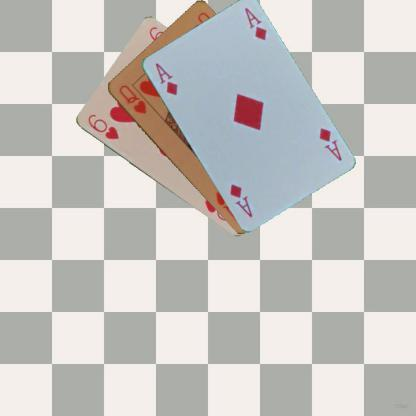6h: (85, 111, 121, 141)
Ad: (316, 125, 343, 162), (152, 60, 178, 97)
Qh: (115, 82, 148, 116)
